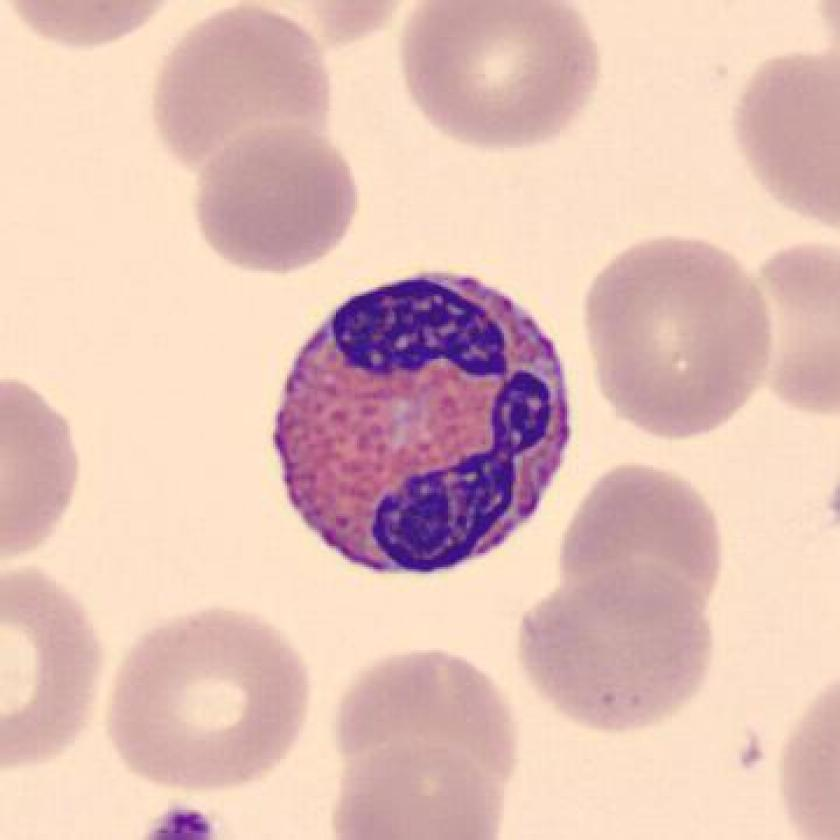eosinophil: (262, 260, 589, 598)
